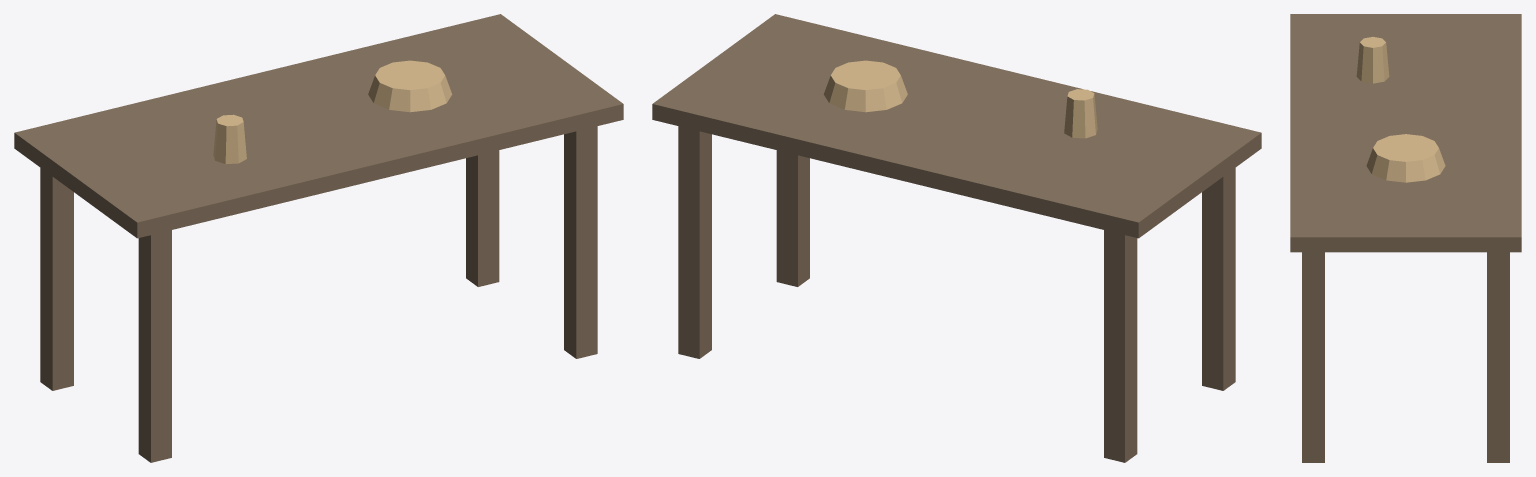
File: table.glb
The picture shows the model from 3 angles, left to right: view 1: azimuth 30°, elevation 25°; view 2: azimuth 150°, elevation 25°; view 3: azimuth 270°, elevation 25°; orthographic projection. The views are drawn at different scales.
Parts seen in each view (by area): view 1: table, table_food; view 2: table, table_food; view 3: table, table_food.
Part boxes in pixels (x1,y1,x2,y2): table: [14, 14, 623, 462]; table_food: [213, 60, 452, 163]; table: [652, 14, 1261, 462]; table_food: [823, 60, 1097, 138]; table: [1290, 14, 1521, 462]; table_food: [1356, 37, 1445, 182].
Bounding box in the file's own units: 1.6 × 0.9 × 0.7.
